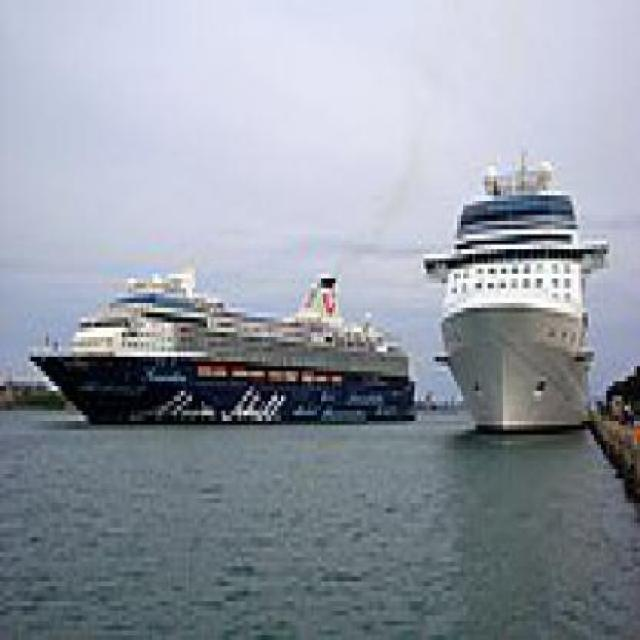cruise: (19, 246, 428, 441), (413, 138, 630, 450)
